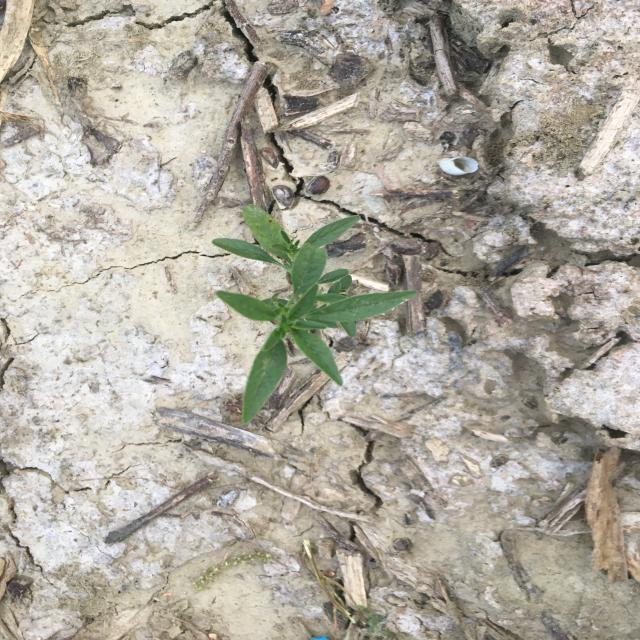Waterhemp: (209, 205, 420, 426)
